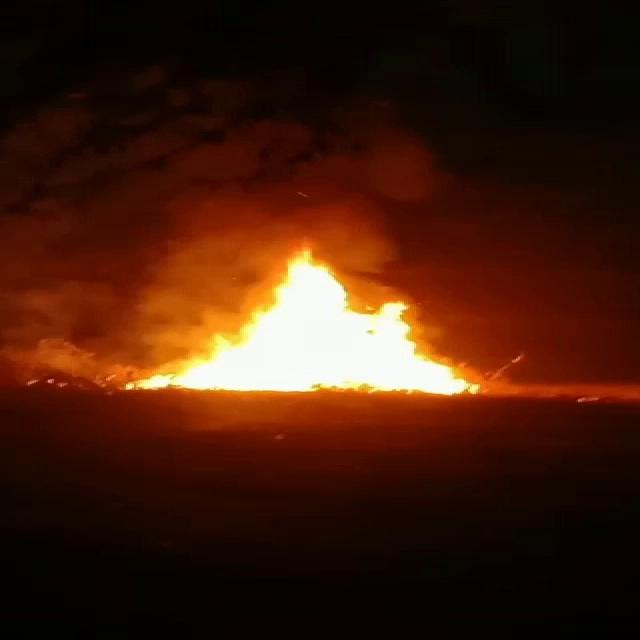Fire: (142, 253, 478, 397)
